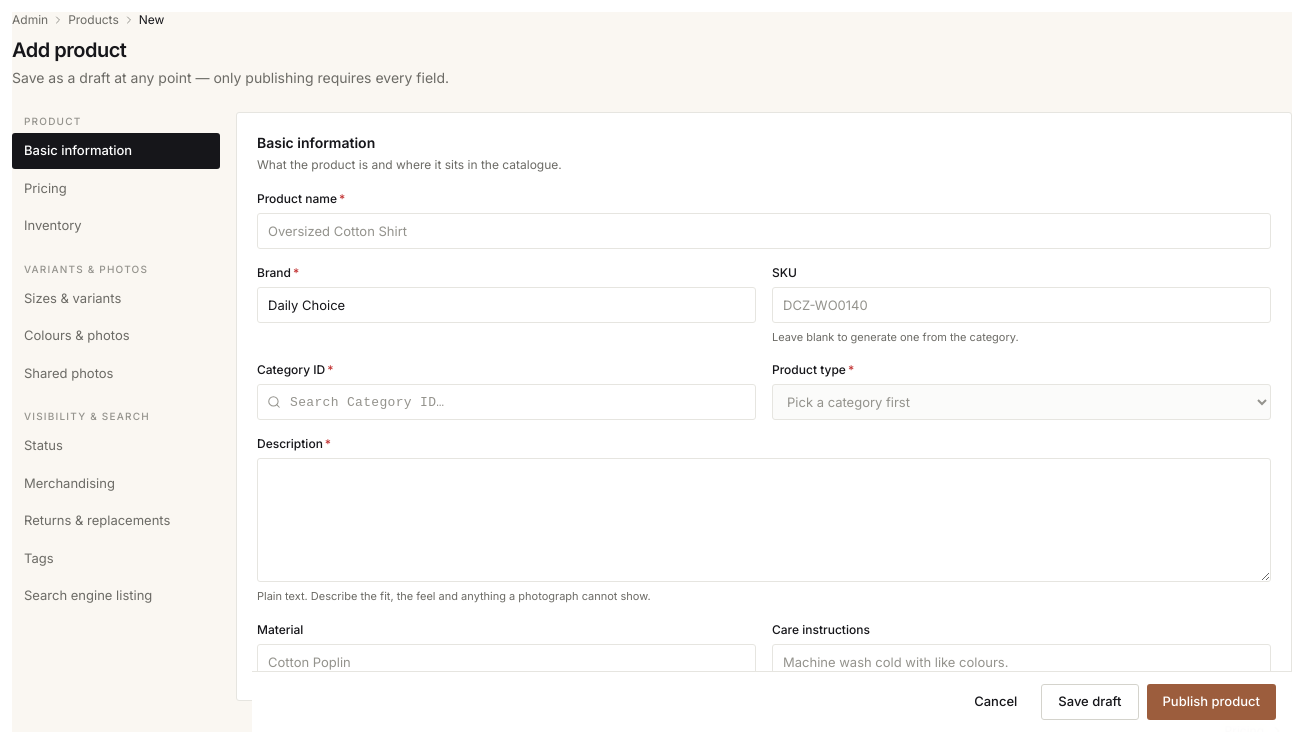
it: AdminProductForm — category by ID › requires a category before saving
Type "Linen shirt" into the field labelled "Product name*" at (764, 230), box left=257, top=212, right=1271, bottom=248
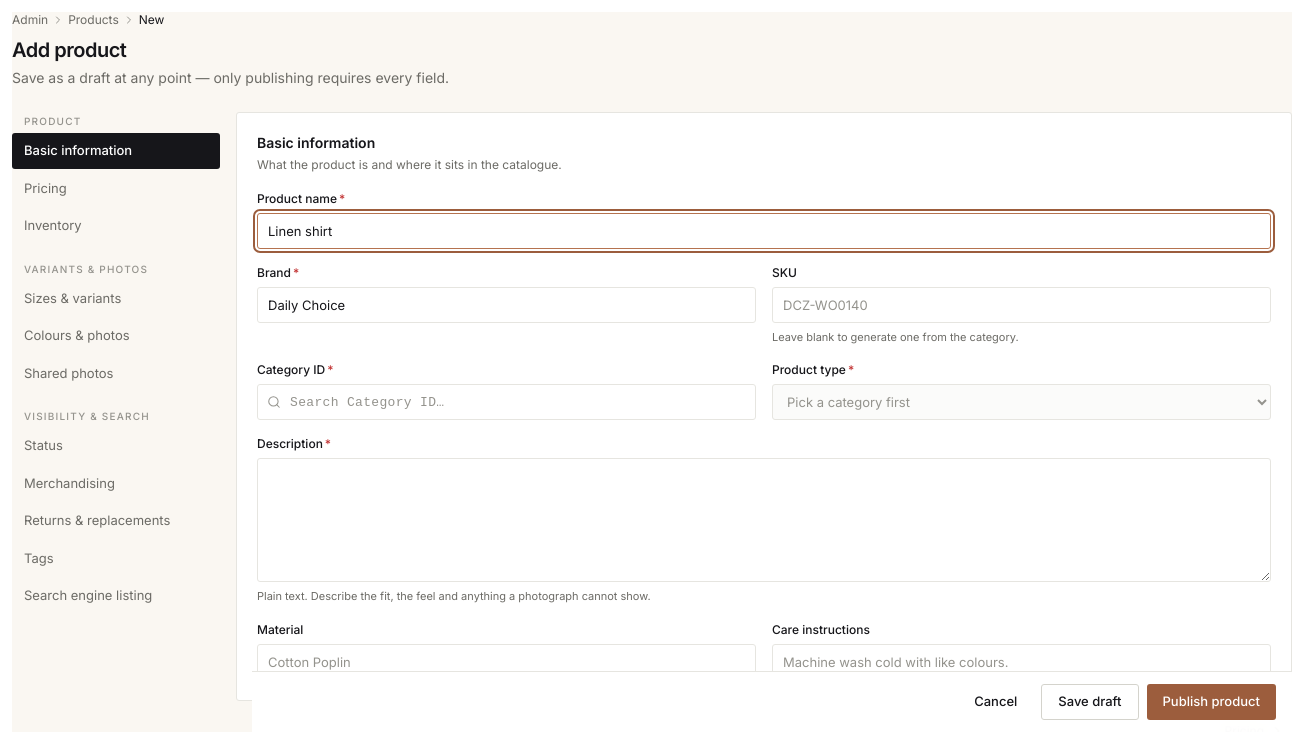
Click the button "Save draft" at (1090, 702), box left=1041, top=684, right=1138, bottom=720
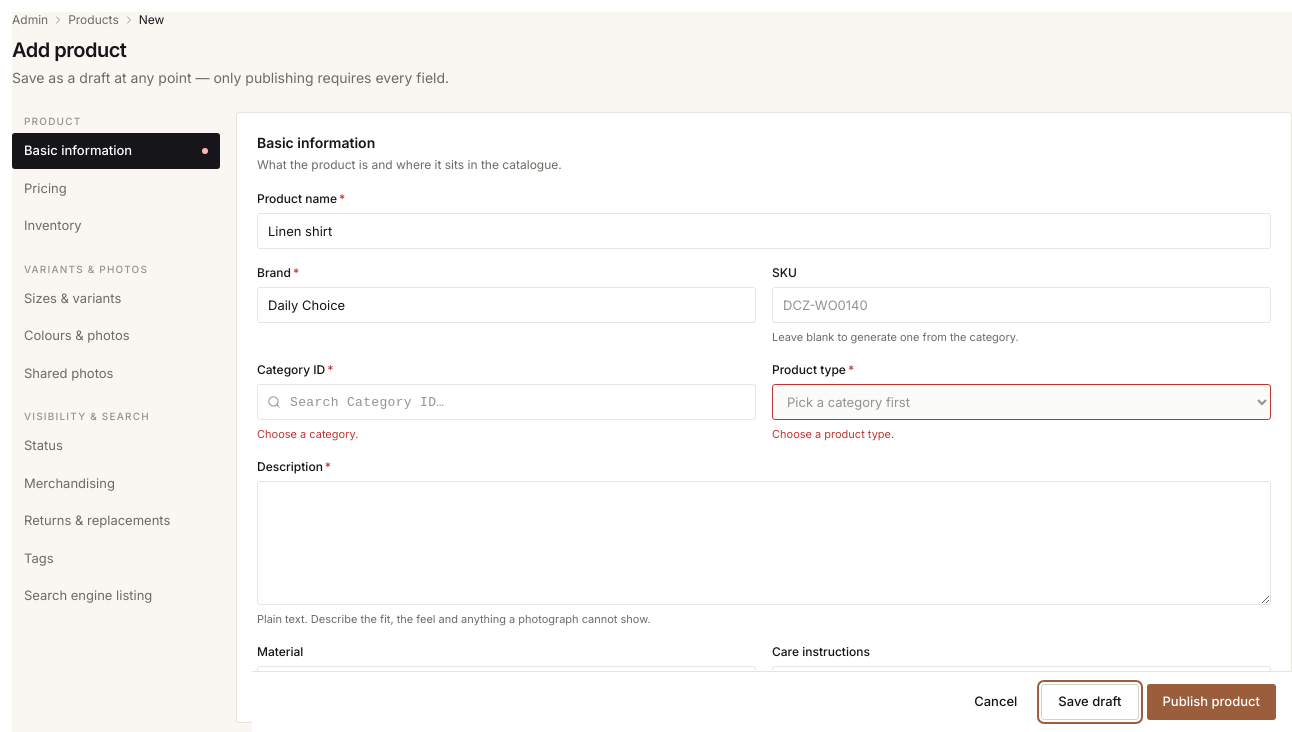
Expected: the text "Choose a category." is shown, left=257, top=427, right=358, bottom=441
